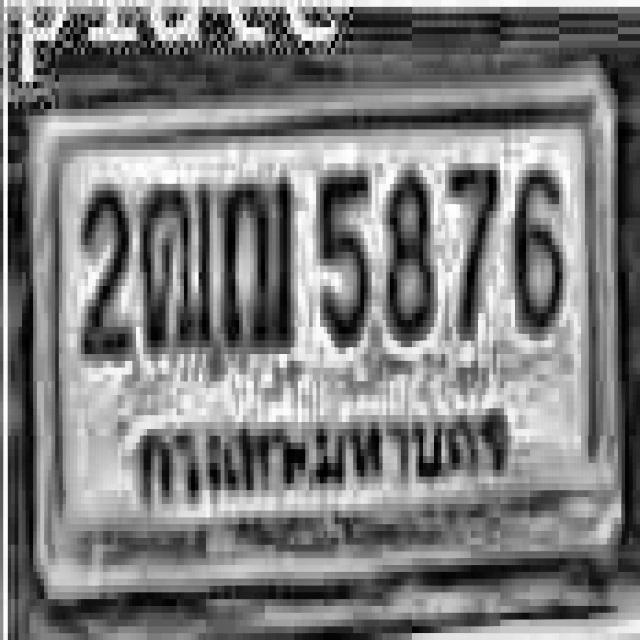license-plate: (28, 63, 628, 604)
